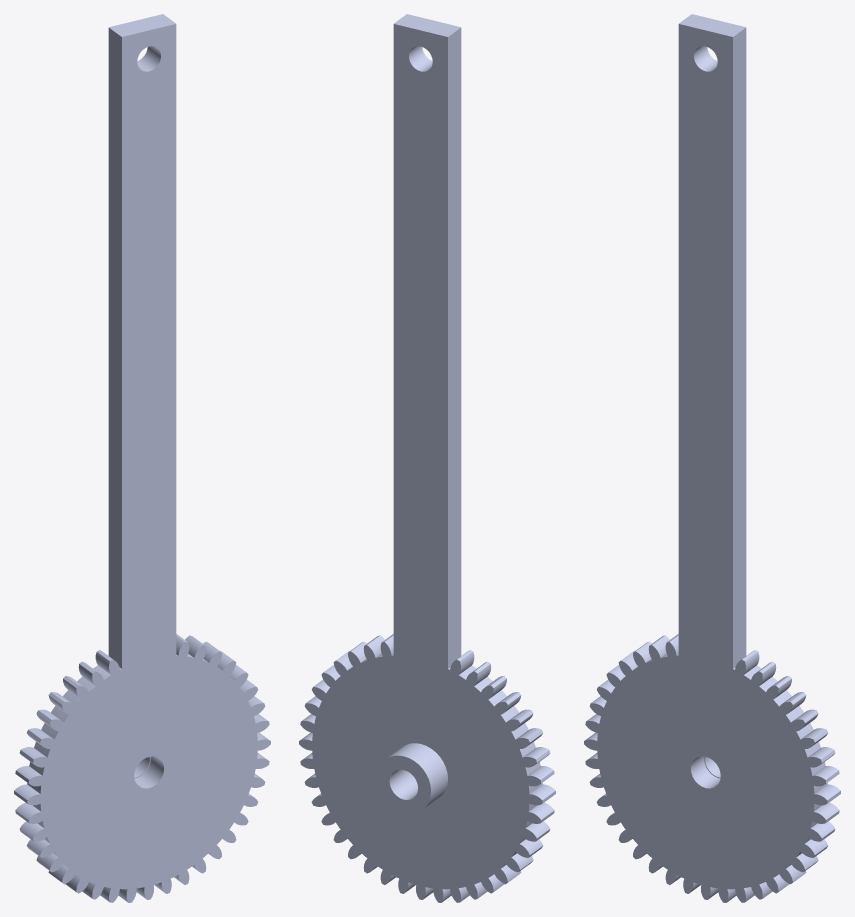
The model's file is ratio_left_gear.dae.
The picture shows the model from 3 angles, left to right: view 1: azimuth 30°, elevation 25°; view 2: azimuth 150°, elevation 25°; view 3: azimuth 330°, elevation 25°; orthographic projection.
Visible parts, largest first — view 1: ratio_left_gear; view 2: ratio_left_gear; view 3: ratio_left_gear.
Boxes of the visible parts, x1,y1,x2,y2 form: ratio_left_gear: [14, 14, 270, 902]; ratio_left_gear: [299, 14, 555, 902]; ratio_left_gear: [584, 14, 840, 902].
Size of the model in its own units: 0.0357 by 0.0077 by 0.1219.
